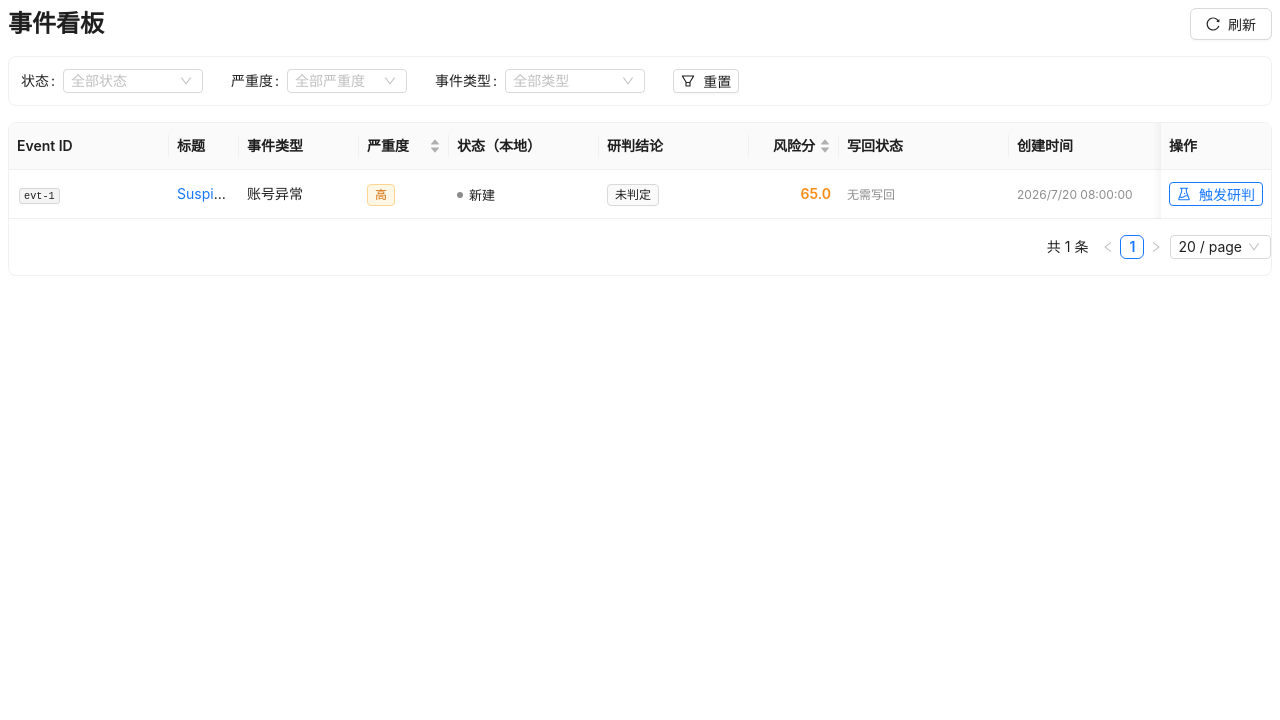
Scenario: EventListPage › shows in-progress hint on 409 investigation_in_progress
Click the button with test id "trigger-investigation-evt-1": click(1216, 194) [1169,182,1263,206]
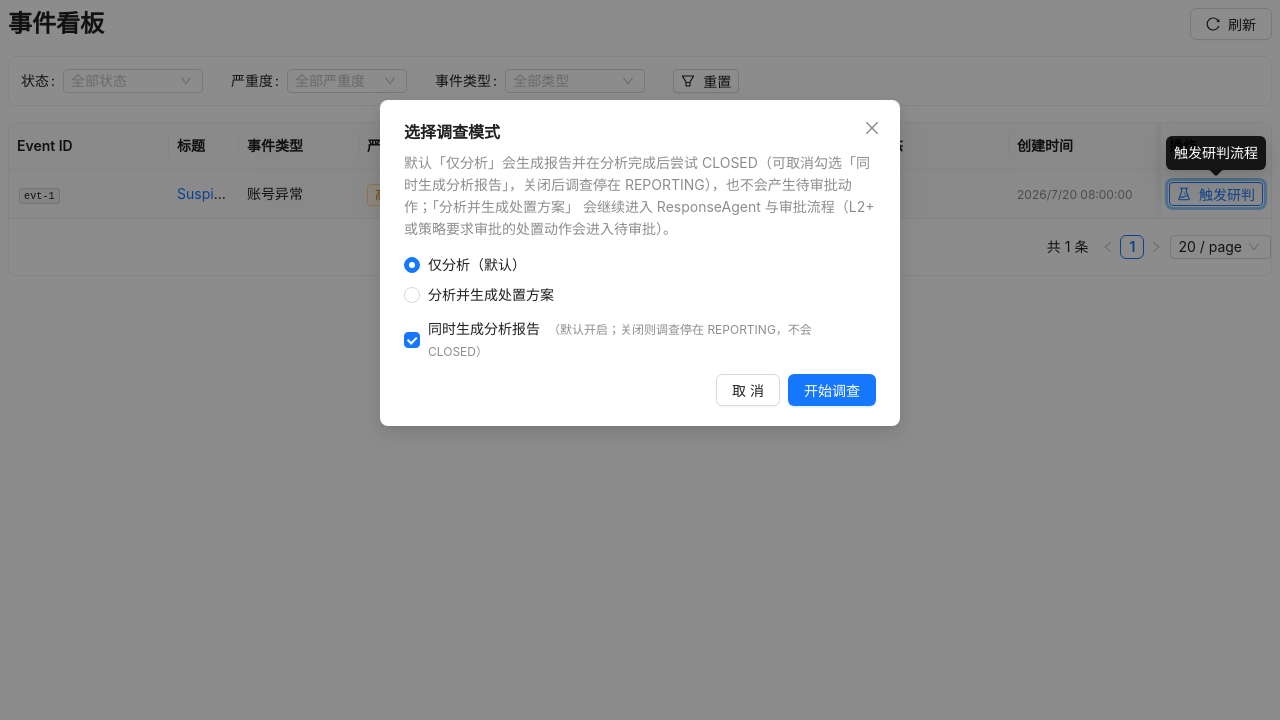
Click the button "开始调查": click(832, 390) [788,374,876,406]
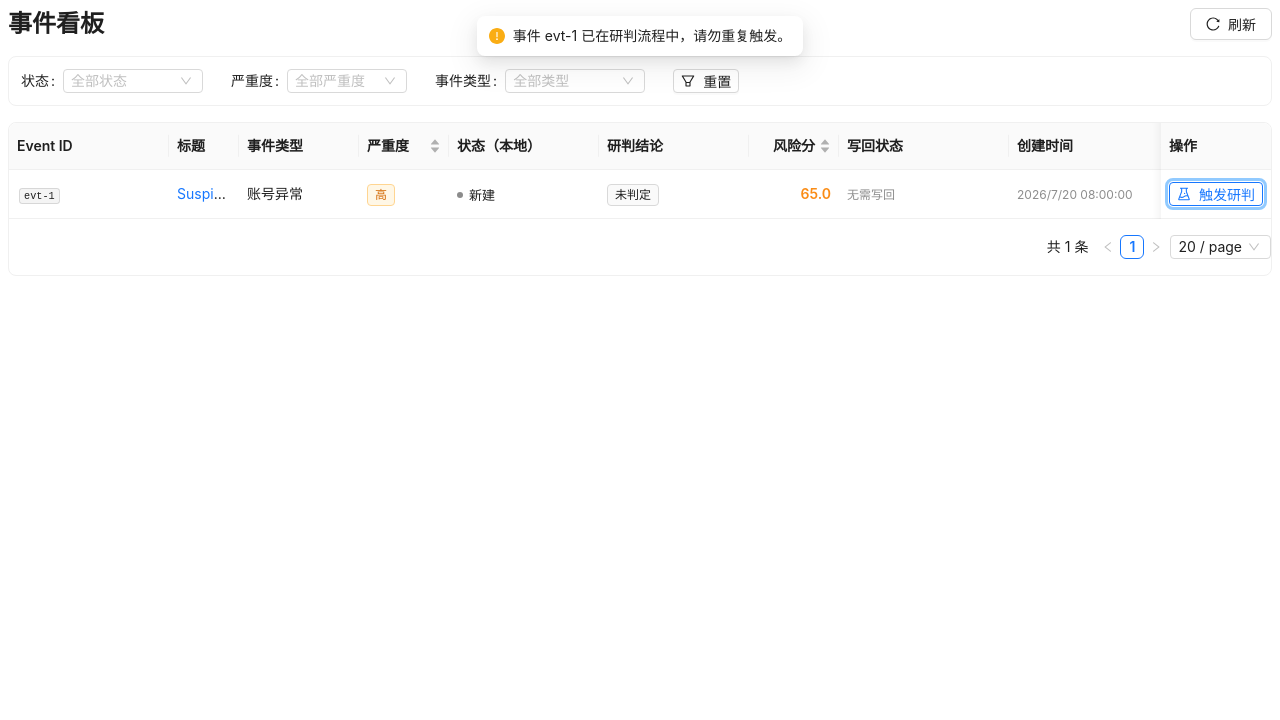
Result: the text "事件 evt-1 已在研判流程中，请勿重复触发。" is shown at [513,25,791,47]
